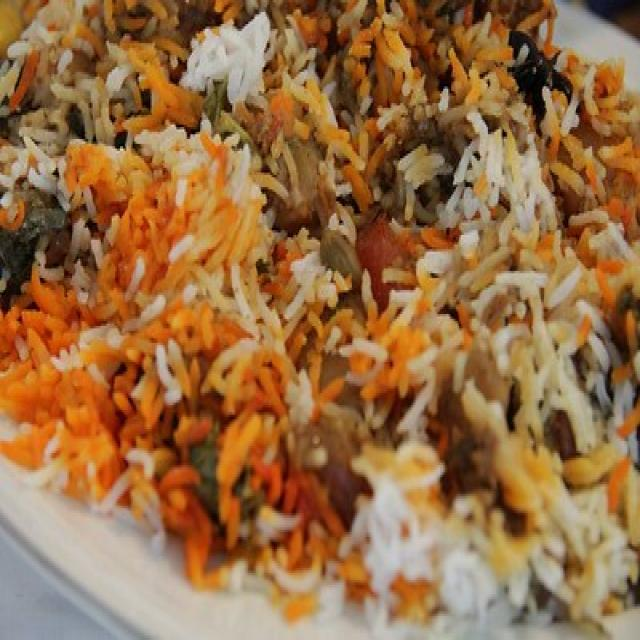Biryani: (0, 5, 637, 570)
